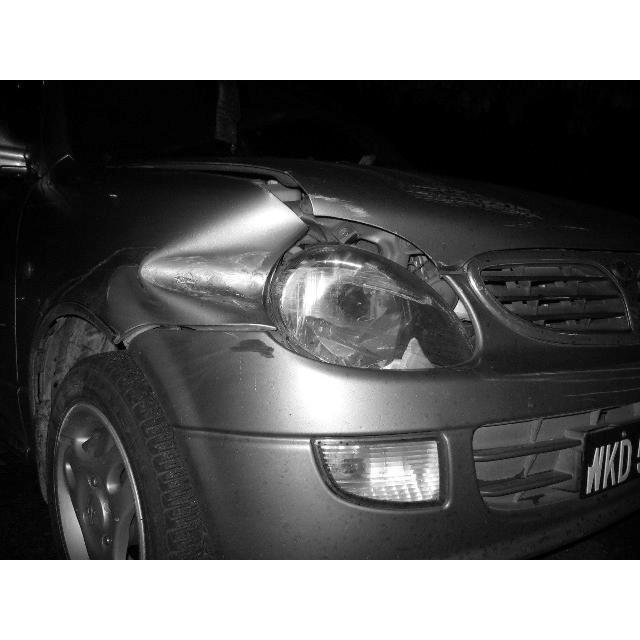bonnet-dent: (267, 146, 640, 279)
fender-dent: (4, 152, 311, 352)
front-bumper-dent: (103, 319, 639, 560)
